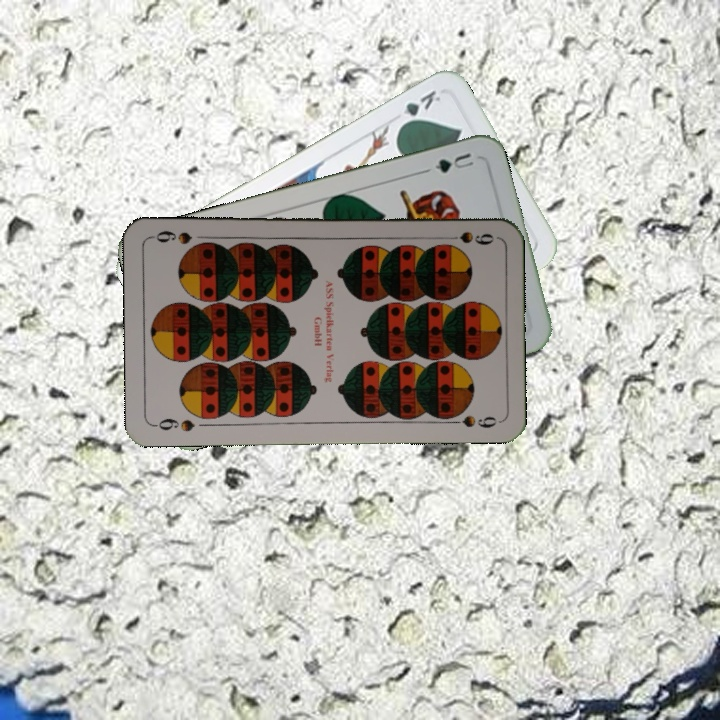GK: (395, 86, 444, 130)
GU: (430, 148, 477, 176)
S9: (438, 227, 496, 247), (150, 414, 197, 434)
